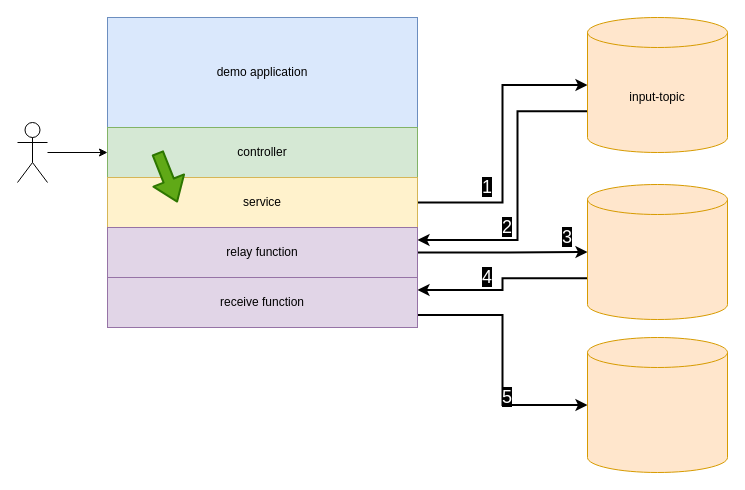
Image size: 745x490. Some labels were removed from this diagram. Here are the shapes that lost their labels. From the top down, the box of each, then its label:
(16, 122, 48, 182): user
(586, 184, 728, 320): relay-output
(586, 336, 728, 472): final-output-topic
